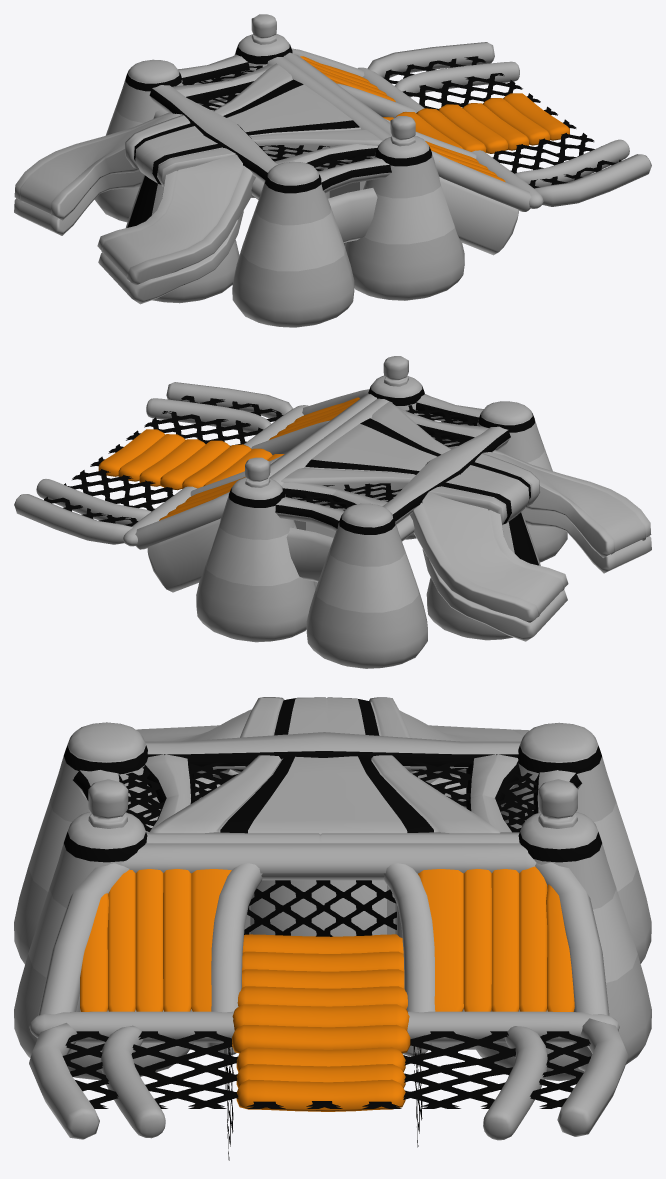
Rendered from BounceBackpart_oktirome.fbx.
The picture shows the model from 3 angles, top to bottom: view 1: azimuth 30°, elevation 25°; view 2: azimuth 150°, elevation 25°; view 3: azimuth 270°, elevation 25°; orthographic projection. The views are drawn at different scales.
Parts seen in each view (by area): view 1: pCube259, pCube226, pCube218, pCube240, pCube248, pCube225, pPlane5, pCube164, pCube239, pCube247, pCube159, pCube258 (+28 smaller); view 2: pCube259, pCube225, pCube217, pCube240, pCube248, pCube226, pPlane5, pCube239, pCube164, pCube247, pCube156, pCube257 (+28 smaller); view 3: polySurface2557, pCube240, polySurface2573, pCube136, polySurface2567, pCube217, pPlane5, pCube225, pCube218, pCube226, pCube142, pCube239 (+26 smaller).
Boxes of the visible parts, <box> form: pCube259: <box>14,112,255,285</box>; pCube226: <box>232,161,354,327</box>; pCube218: <box>345,136,464,300</box>; pCube240: <box>213,63,382,171</box>; pCube248: <box>125,114,235,187</box>; pCube225: <box>94,59,183,222</box>; pPlane5: <box>384,56,621,188</box>; pCube164: <box>439,176,518,255</box>; pCube239: <box>149,85,277,182</box>; pCube247: <box>126,174,239,303</box>; pCube159: <box>534,154,651,206</box>; pCube258: <box>98,211,243,304</box>; pCube259: <box>410,450,651,622</box>; pCube225: <box>306,503,427,668</box>; pCube217: <box>196,477,315,642</box>; pCube240: <box>281,401,451,501</box>; pCube248: <box>429,453,539,524</box>; pCube226: <box>477,401,567,562</box>; pPlane5: <box>44,395,283,526</box>; pCube239: <box>382,426,510,524</box>; pCube164: <box>147,518,220,592</box>; pCube247: <box>426,511,540,640</box>; pCube156: <box>14,494,132,544</box>; pCube257: <box>422,549,567,641</box>; polySurface2557: <box>418,866,574,1011</box>; pCube240: <box>150,755,500,834</box>; polySurface2573: <box>80,869,231,1011</box>; pCube136: <box>121,843,536,880</box>; polySurface2567: <box>237,934,407,1008</box>; pCube217: <box>474,812,651,1081</box>; pPlane5: <box>62,1031,590,1106</box>; pCube225: <box>501,722,651,963</box>; pCube218: <box>14,812,193,1080</box>; pCube226: <box>14,722,160,964</box>; pCube142: <box>29,1011,619,1042</box>; pCube239: <box>145,732,520,774</box>.
Bounding box in the file's own units: 4266 × 1566 × 2904.
